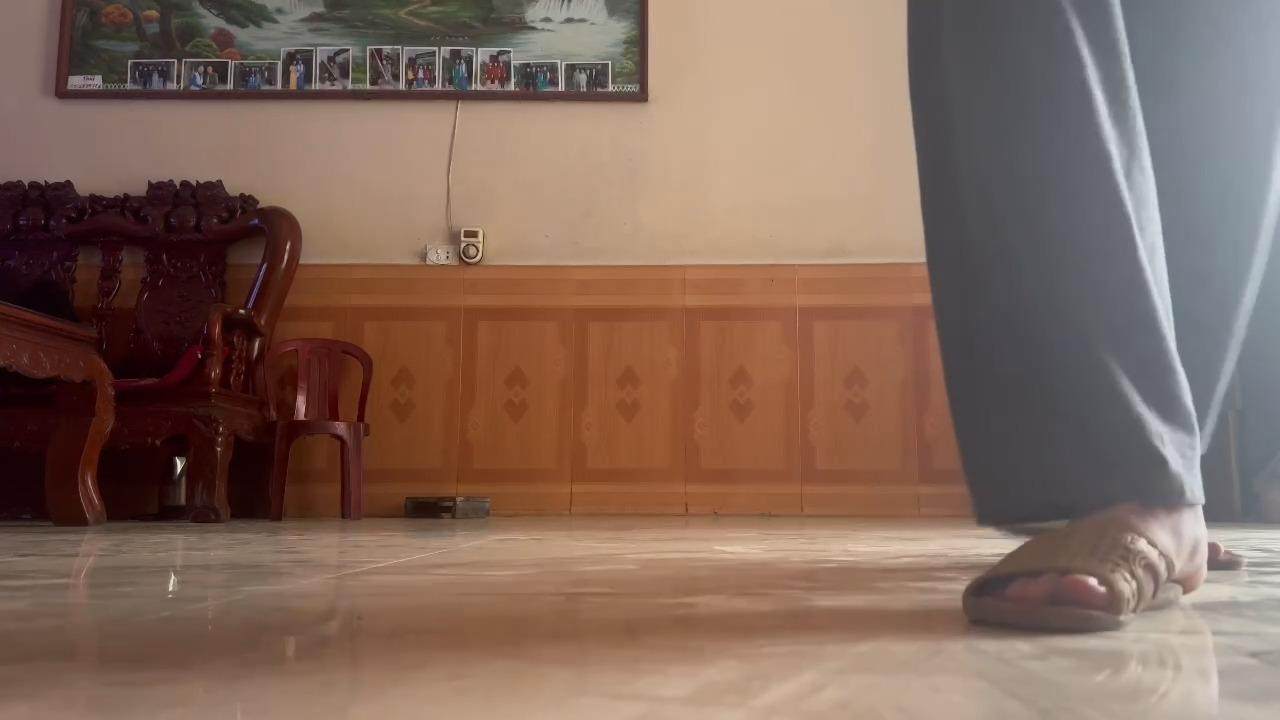no-boot: (957, 510, 1217, 637)
